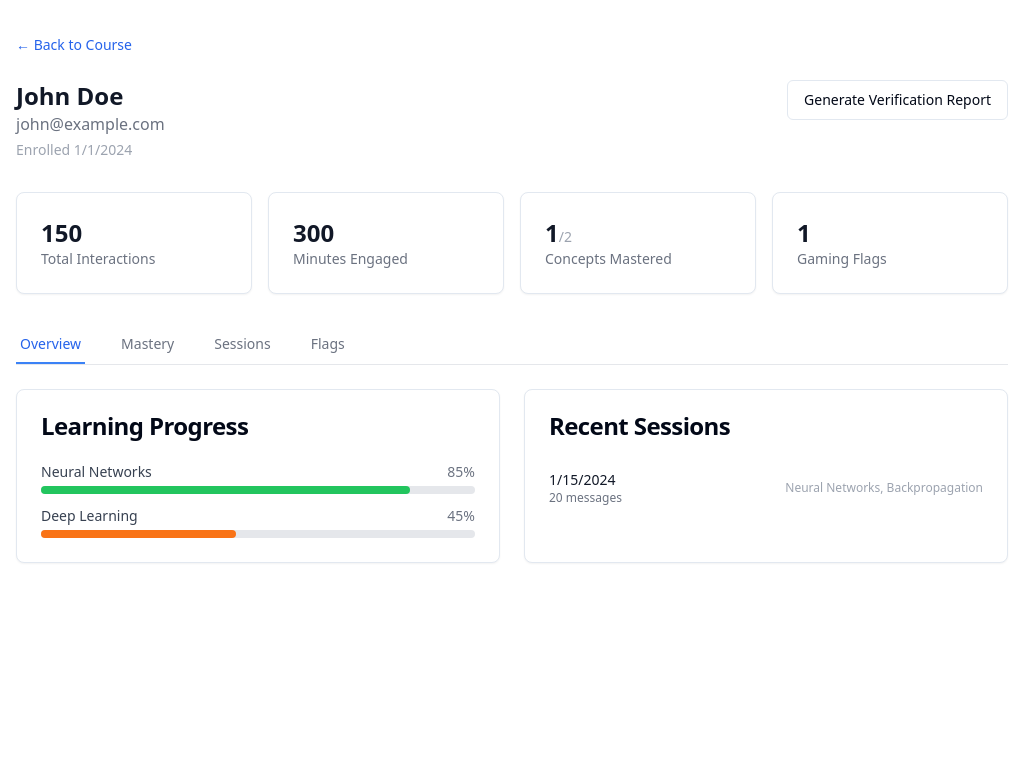
StudentView › tabs › should switch to mastery tab when clicked
Expected: the heading "John Doe" is shown, [16, 79, 123, 112]
Click the button "mastery" at (148, 345), box [117, 326, 178, 364]
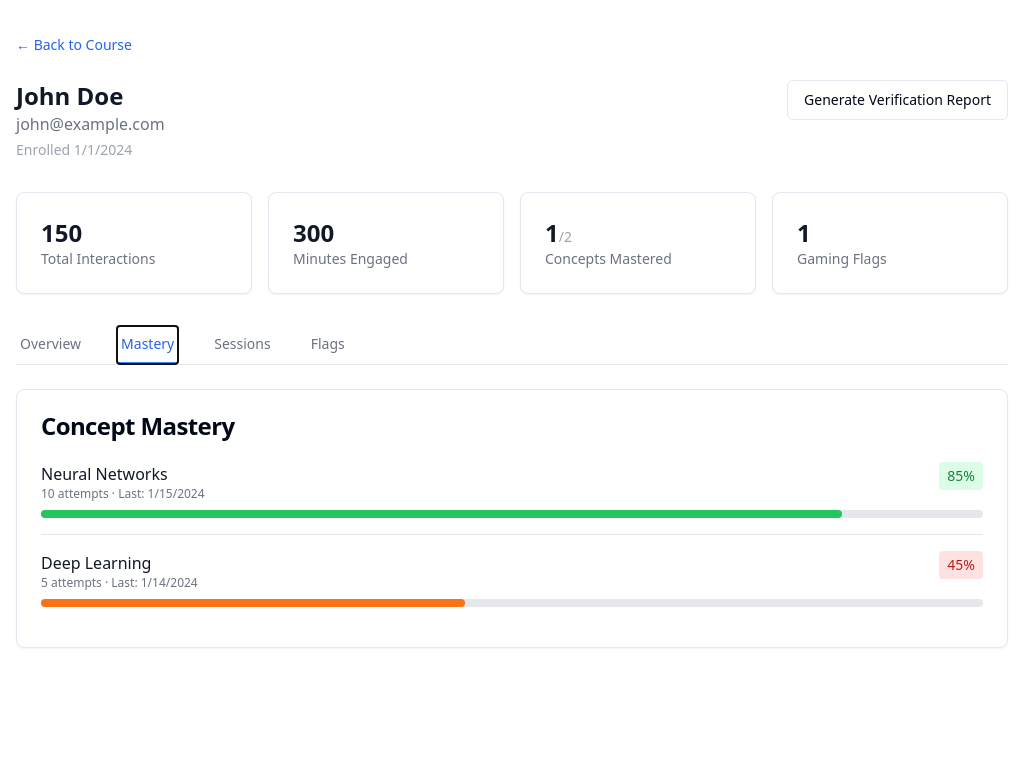
Expected: the heading "Concept Mastery" is shown, [41, 409, 234, 442]
